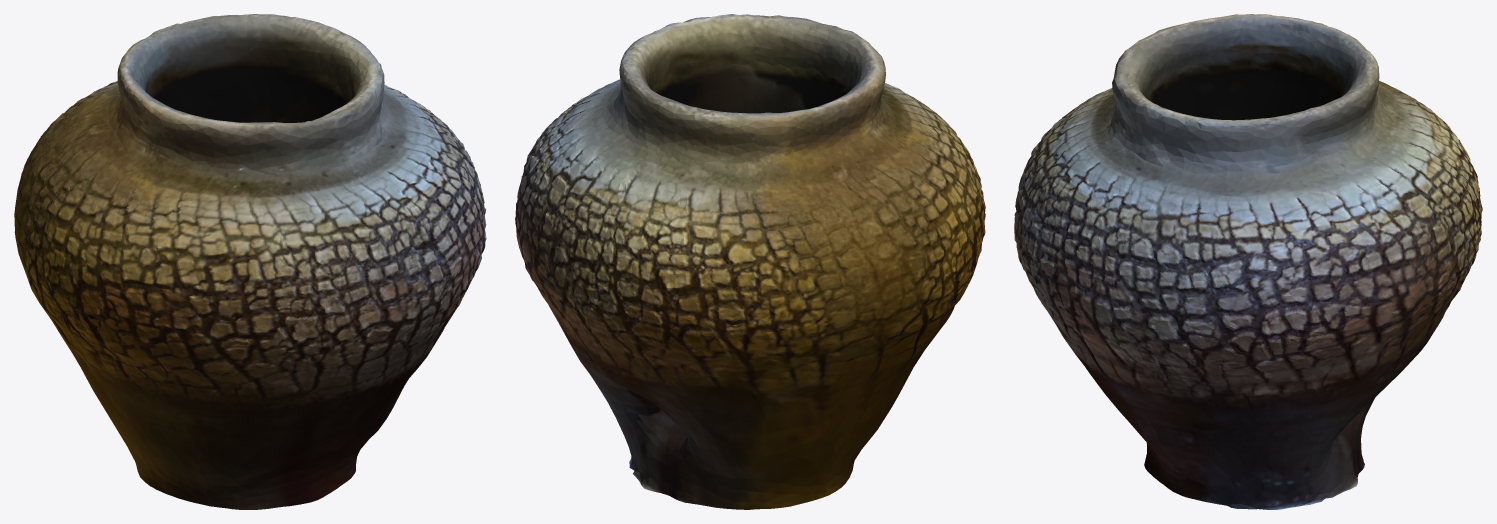
File: metascan_20221222-2104_crackled-jar.glb
The picture shows the model from 3 angles, left to right: view 1: azimuth 30°, elevation 25°; view 2: azimuth 150°, elevation 25°; view 3: azimuth 270°, elevation 25°; orthographic projection.
Bounding box in the file's own units: 0.1667 × 0.1553 × 0.1668.
Materials: 1 (1 with a texture image).
